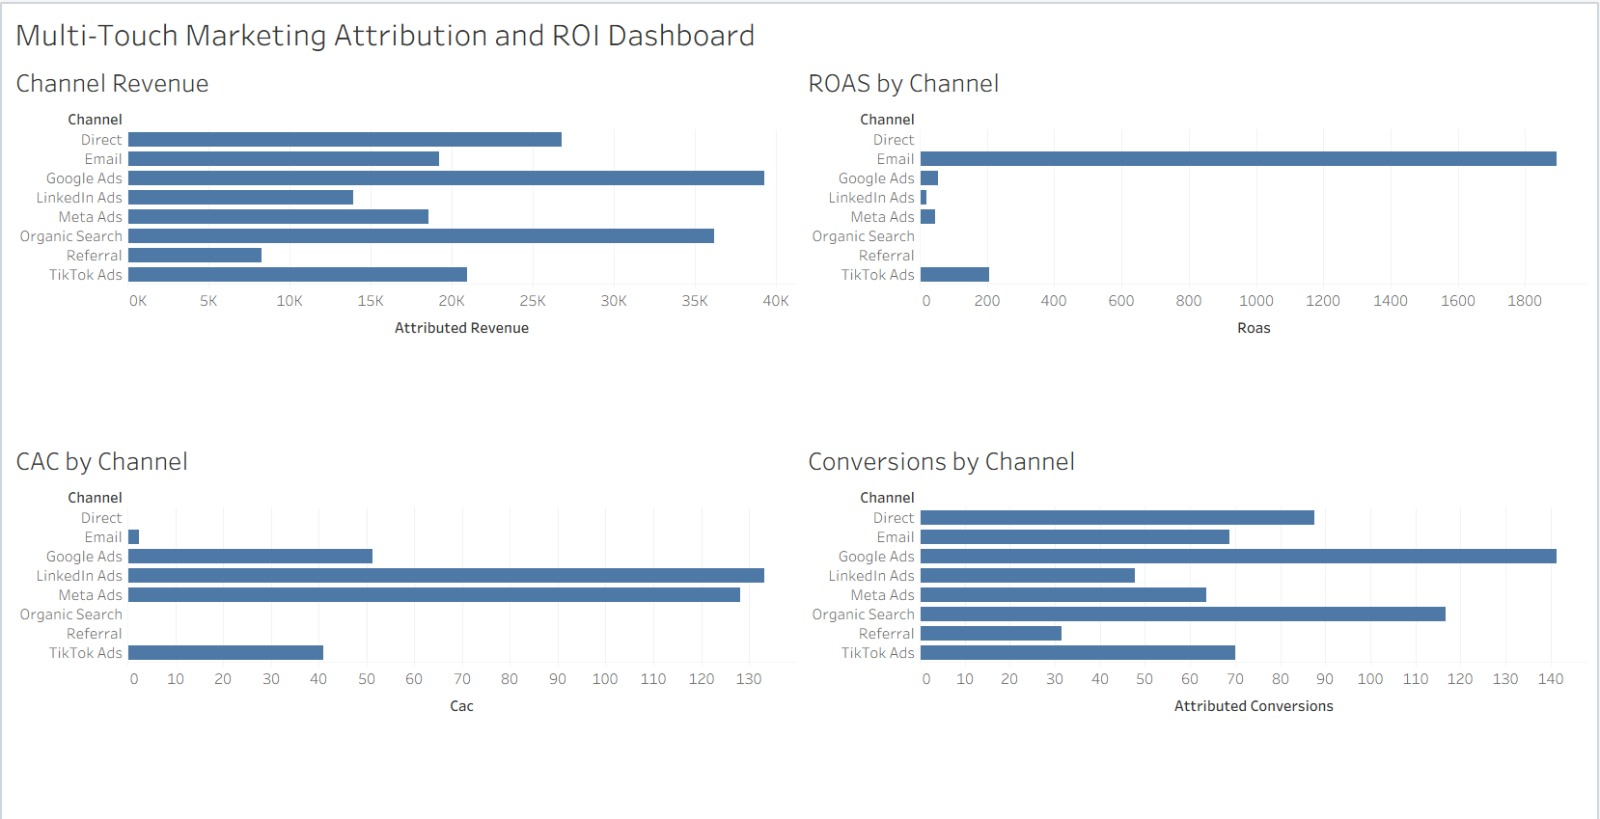

The dashboard page shown, as its layout file describes it:
{"tool":"tableau","page":{"name":"MTA ROI Dashboard","canvas":[650,860],"ordinal":0},"visuals":[{"type":"title","box":[8,8.1,634,92.9]},{"type":"worksheet","title":"Channel Revenue","mark":"Automatic","rows":["channel"],"cols":["attributed_revenue"],"box":[8,100.9,317,375.5]},{"type":"worksheet","title":"ROAS by Channel","mark":"Automatic","rows":["channel"],"cols":["roas"],"box":[325,100.9,317,375.5]},{"type":"worksheet","title":"CAC by Channel","mark":"Automatic","rows":["channel"],"cols":["cac"],"box":[8,476.4,317,375.5]},{"type":"worksheet","title":"Conversions by Channel","mark":"Automatic","rows":["channel"],"cols":["attributed_conversions"],"box":[325,476.4,317,375.5]}]}

Visuals, with their boxes on the page's 650x860 design canvas (x1, y1, x2, y2). These are canvas units, not pixel positions in the 1600x819 screenshot, which may show the page scaled, cropped or inside an application window:
title: 8:8:642:101
"Channel Revenue" worksheet: 8:101:325:476
"ROAS by Channel" worksheet: 325:101:642:476
"CAC by Channel" worksheet: 8:476:325:852
"Conversions by Channel" worksheet: 325:476:642:852
